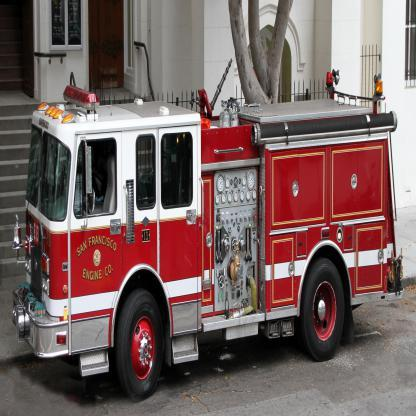fire-truck: (2, 45, 416, 406)
